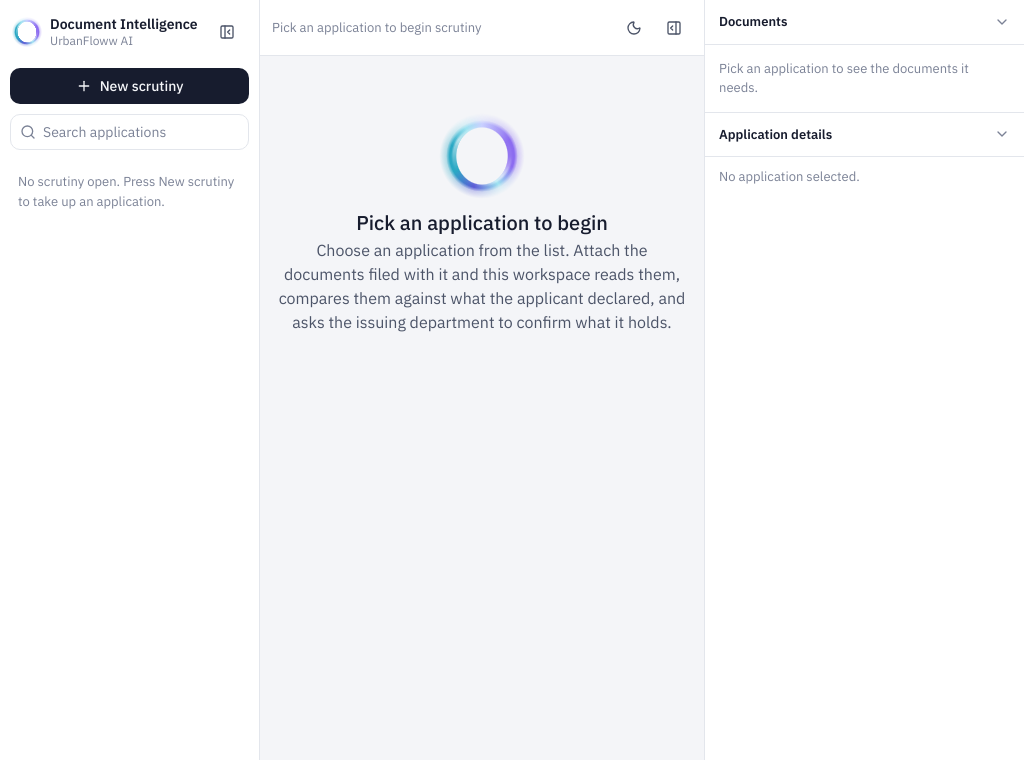
the workspace shell › puts the chosen application on the rail and opens it
Click the button "New scrutiny": (130,86) [10, 68, 249, 104]
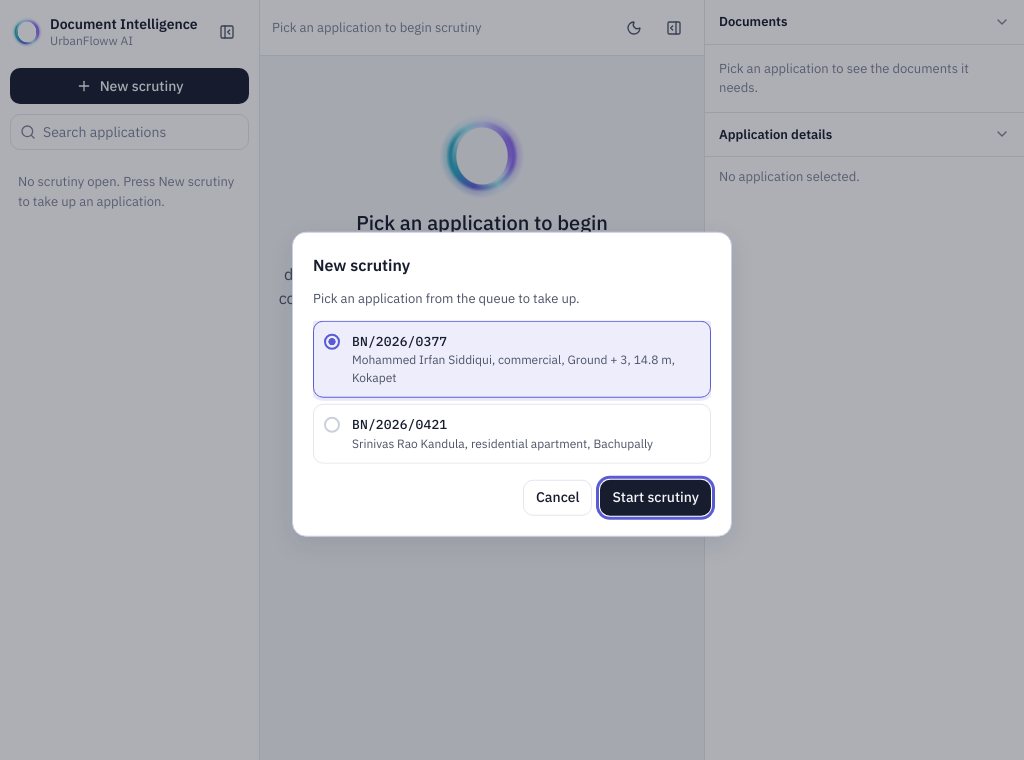
Click the text "BN/2026/0377": (400,341) [352, 332, 447, 349]
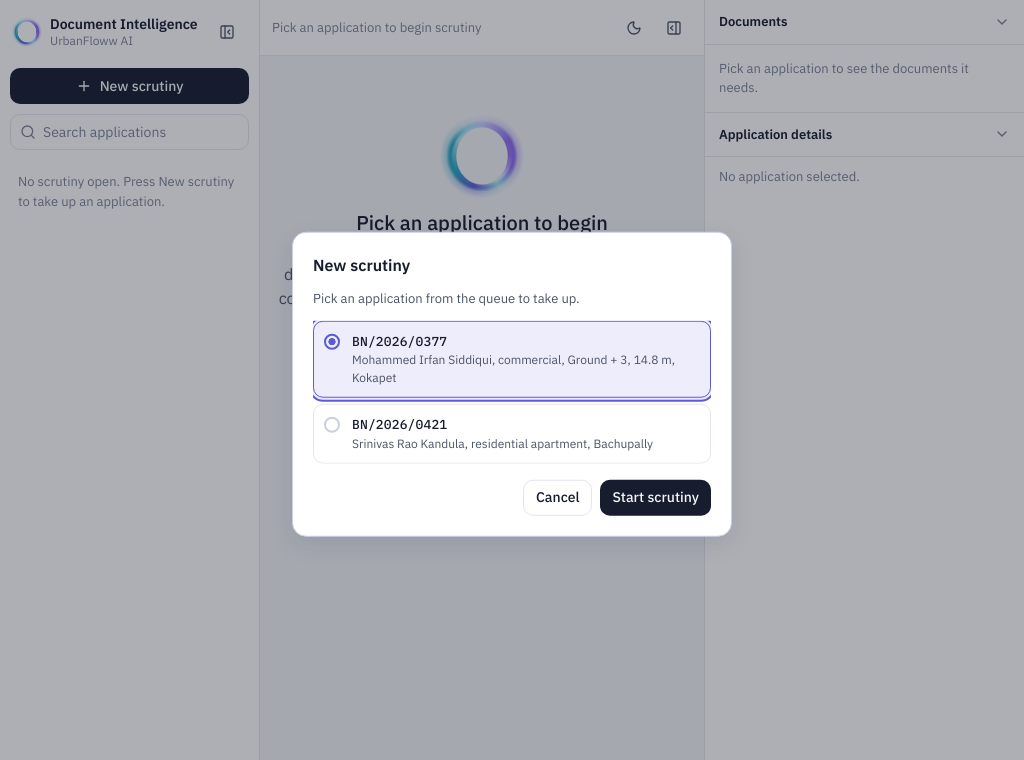
Click the button "Start scrutiny": (656,497) [600, 479, 711, 515]
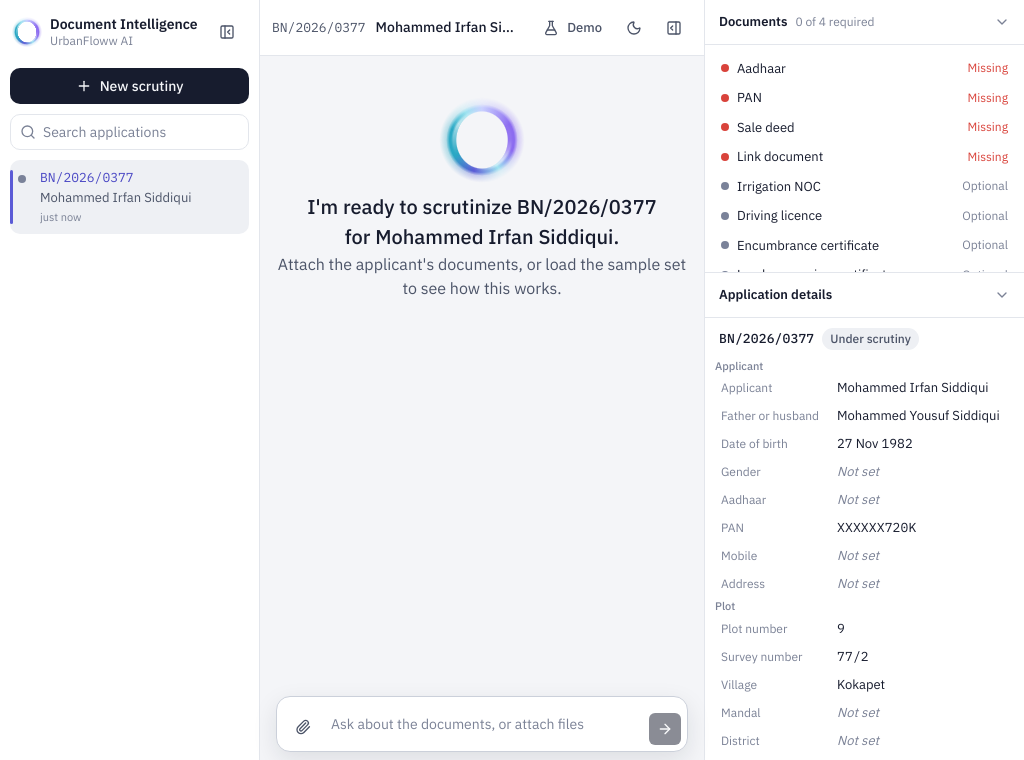
Expected: the text "Mohammed Irfan Siddiqui" below "UrbanFloww AI" is shown, [40, 188, 192, 206]
Expected: the text "ready to scrutinize" is shown, [307, 193, 657, 250]
